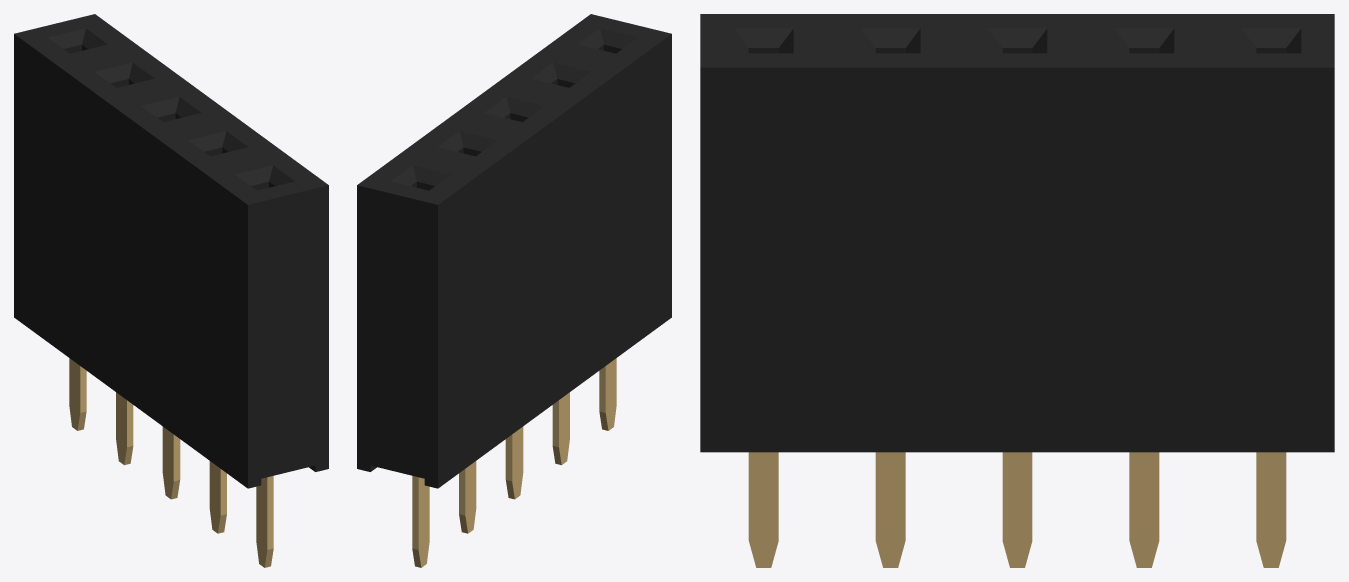
Rendered from kc-pinsocket_1x05_p2.54mm_vertical.glb.
3 renders of one model, left to right at view 1: azimuth 30°, elevation 25°; view 2: azimuth 150°, elevation 25°; view 3: azimuth 270°, elevation 25°, orthographic. The views are drawn at different scales.
Visible parts, largest first — view 1: 0_0_0_0, 0.75_0.5_0.25_0.9; view 2: 0_0_0_0, 0.75_0.5_0.25_0.9; view 3: 0_0_0_0, 0.75_0.5_0.25_0.9.
Part boxes in pixels (x1,y1,x2,y2): 0_0_0_0: [14, 14, 328, 488]; 0.75_0.5_0.25_0.9: [69, 358, 273, 567]; 0_0_0_0: [357, 14, 671, 488]; 0.75_0.5_0.25_0.9: [412, 358, 616, 567]; 0_0_0_0: [700, 14, 1334, 452]; 0.75_0.5_0.25_0.9: [748, 452, 1286, 567].
Size of the model in its own units: 0.2539 by 1.16 by 1.27.
